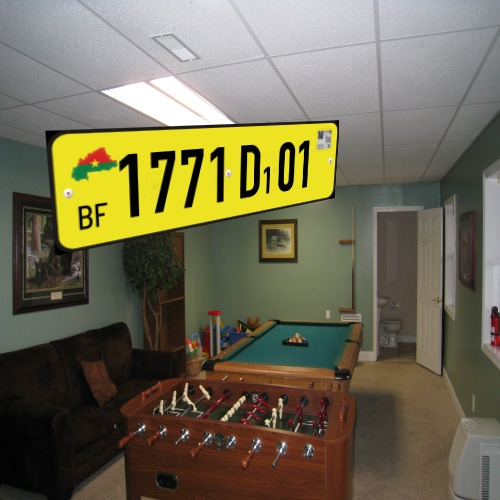plate: (38, 110, 348, 264)
